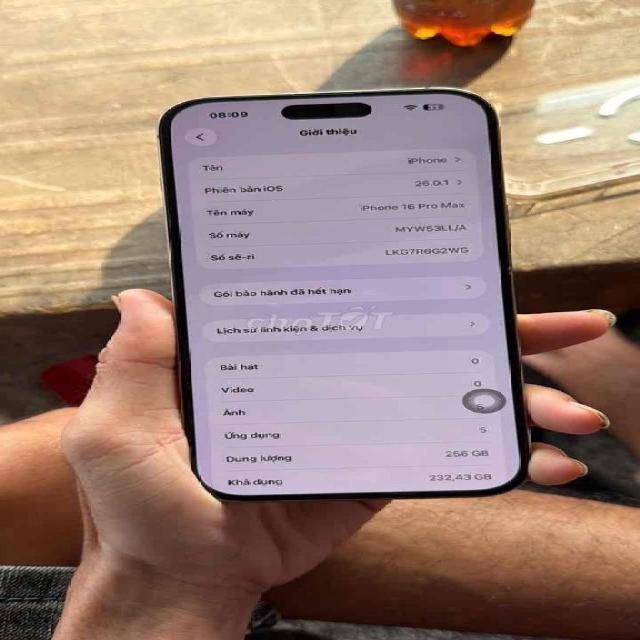gen_16: (150, 77, 537, 505)
